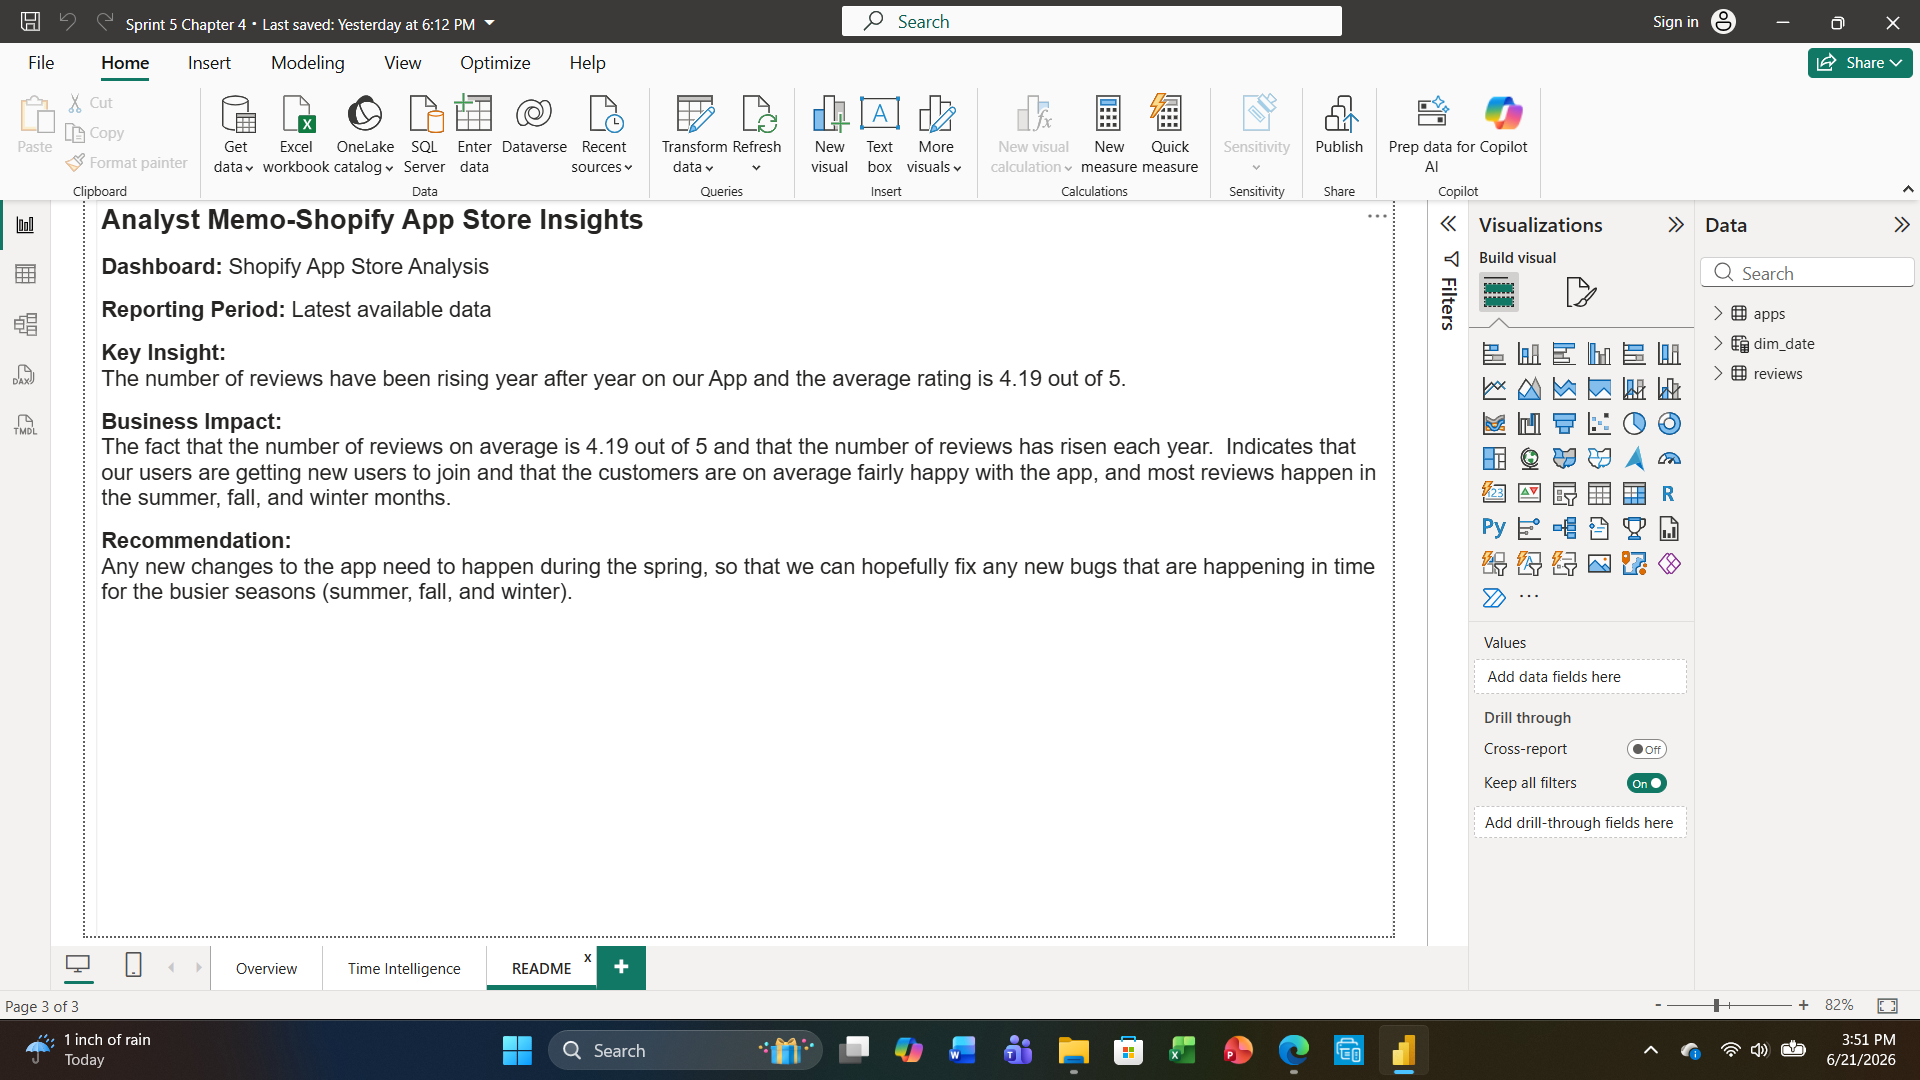

The page's visual inventory and layout, read from the dashboard file:
{"tool":"powerbi","page":{"name":"README","canvas":[1280,720],"ordinal":2},"visuals":[{"type":"textbox","box":[10.7,0,1269.3,721.8],"z":0}]}

Visuals, with their boxes on the page's 1280x720 design canvas (x1, y1, x2, y2). These are canvas units, not pixel positions in the 1920x1080 screenshot, which may show the page scaled, cropped or inside an application window:
textbox: [11, 0, 1280, 722]
